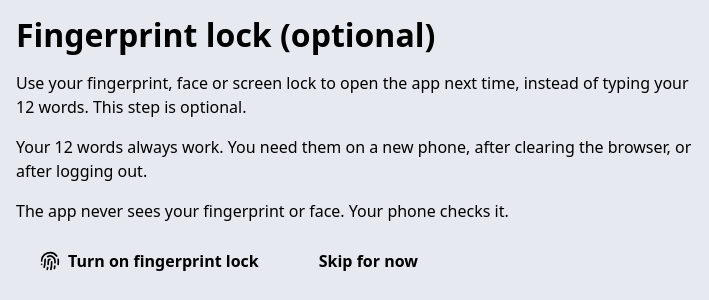
FingerprintScreen: turning on › PRF level: says the data is protected, forgets the enrolment key and continues to Info
The image size is (709, 300).
Click the button "Turn on fingerprint lock": (149, 261) [16,239,283,283]
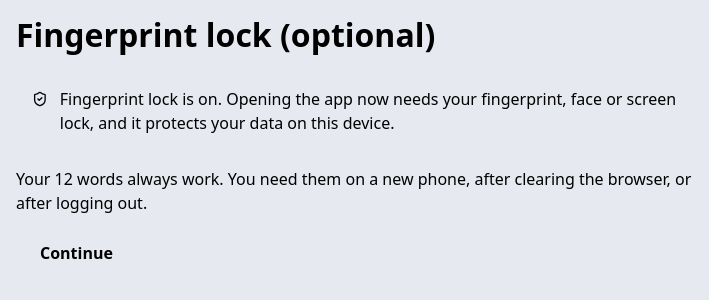
Result: the text "Fingerprint lock is on. Opening the app now needs your fingerprint, face or screen lock, and it protects your data on th" is shown at [60,88,676,134]
Click the button "Continue": (76, 253) [16,231,137,275]
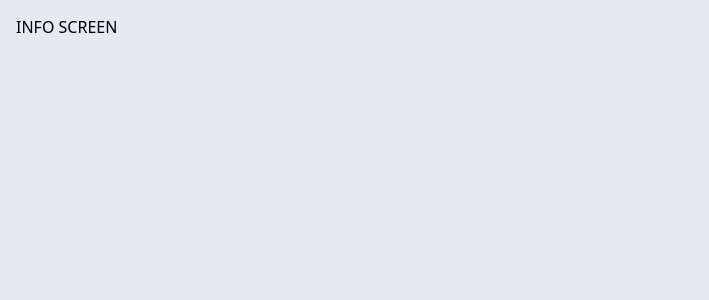
Result: the text "INFO SCREEN" is shown at [16,16,117,38]
